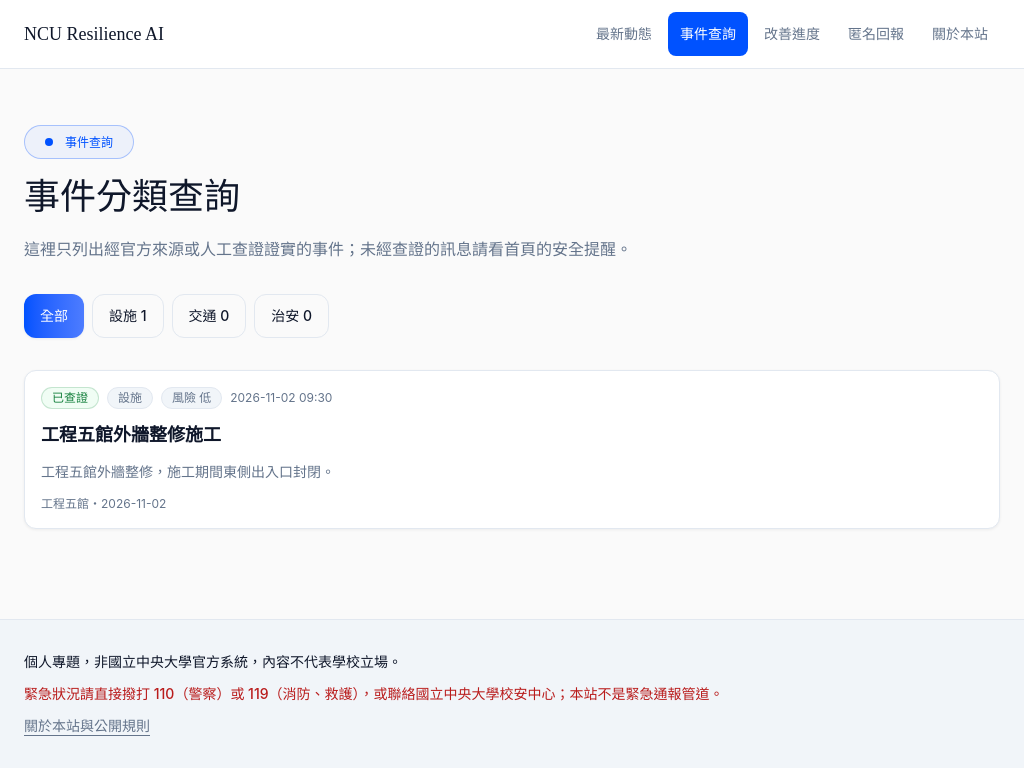
it: PublicApp › 事件分類查詢：列出類別與數量，選擇類別後依類別查詢
The width and height of the screenshot is (1024, 768).
Check: the heading "事件分類查詢" is shown, box [24, 177, 240, 217]
Check: the button "設施 1" is shown, box [92, 294, 164, 338]
Click the button "交通 0": (209, 316) [172, 294, 246, 338]
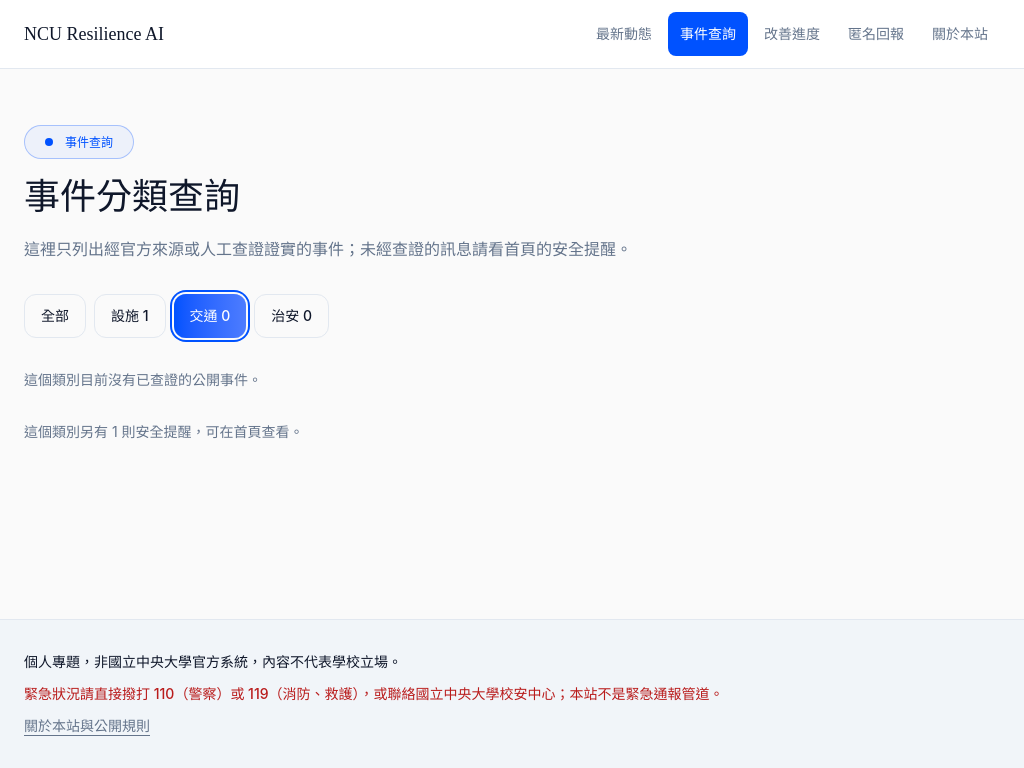
Check: the text "這個類別目前沒有已查證的公開事件。" is shown, box [24, 371, 262, 388]
Check: the text "這個類別另有 1 則安全提醒，可在首頁查看。" is shown, box [24, 423, 304, 440]
